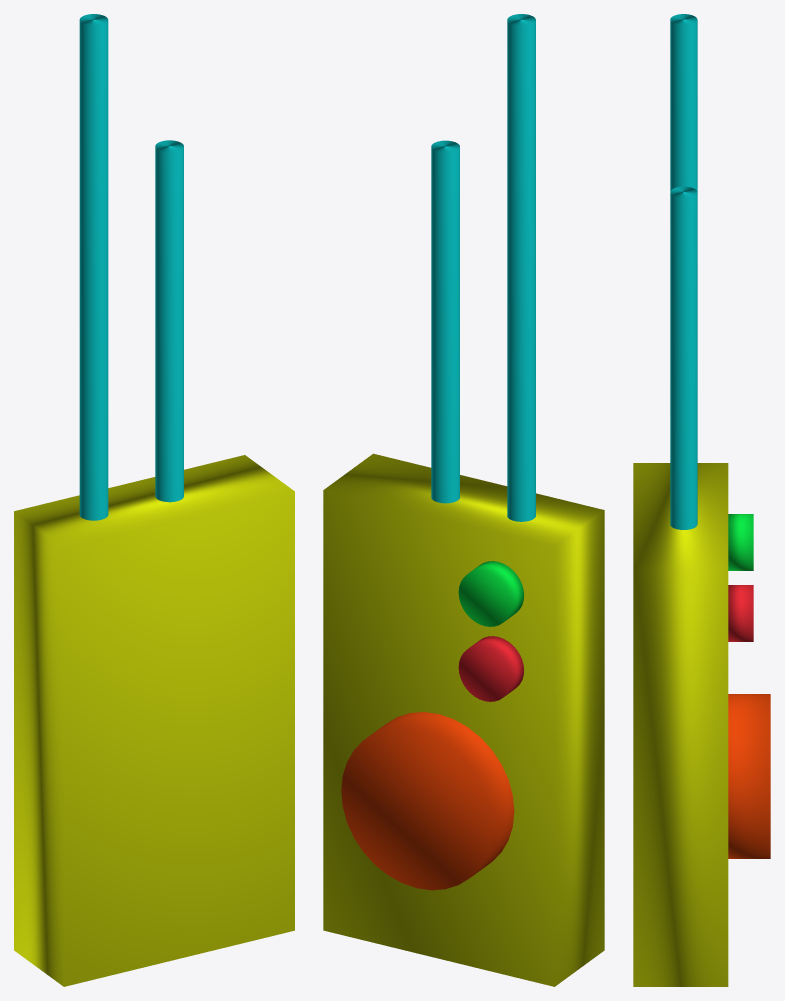
File: boton.fbx
3 views of the same model, side by side, from view 1: azimuth 30°, elevation 25°; view 2: azimuth 150°, elevation 25°; view 3: azimuth 270°, elevation 25° (orthographic). The views are drawn at different scales.
Parts seen in each view (by area): view 1: Cube, Cylinder.003, Cylinder.004; view 2: Cube, Cylinder, Cylinder.003, Cylinder.004, Cylinder.002, Cylinder.001; view 3: Cube, Cylinder.004, Cylinder, Cylinder.003, Cylinder.001, Cylinder.002.
Part boxes in pixels (x1,y1,x2,y2): Cube: (14, 455, 294, 986); Cylinder.003: (79, 14, 108, 520); Cylinder.004: (155, 140, 183, 502); Cube: (323, 453, 604, 986); Cylinder: (341, 712, 514, 890); Cylinder.003: (507, 14, 535, 521); Cylinder.004: (431, 140, 459, 503); Cylinder.002: (458, 636, 524, 701); Cylinder.001: (458, 561, 524, 626); Cube: (633, 463, 728, 986); Cylinder.004: (670, 186, 697, 529); Cylinder: (728, 694, 770, 858); Cylinder.003: (670, 14, 697, 191); Cylinder.001: (728, 514, 753, 570); Cylinder.002: (728, 585, 753, 641).
Size of the model in its own units: 1.66 by 3.07 by 11.86.
